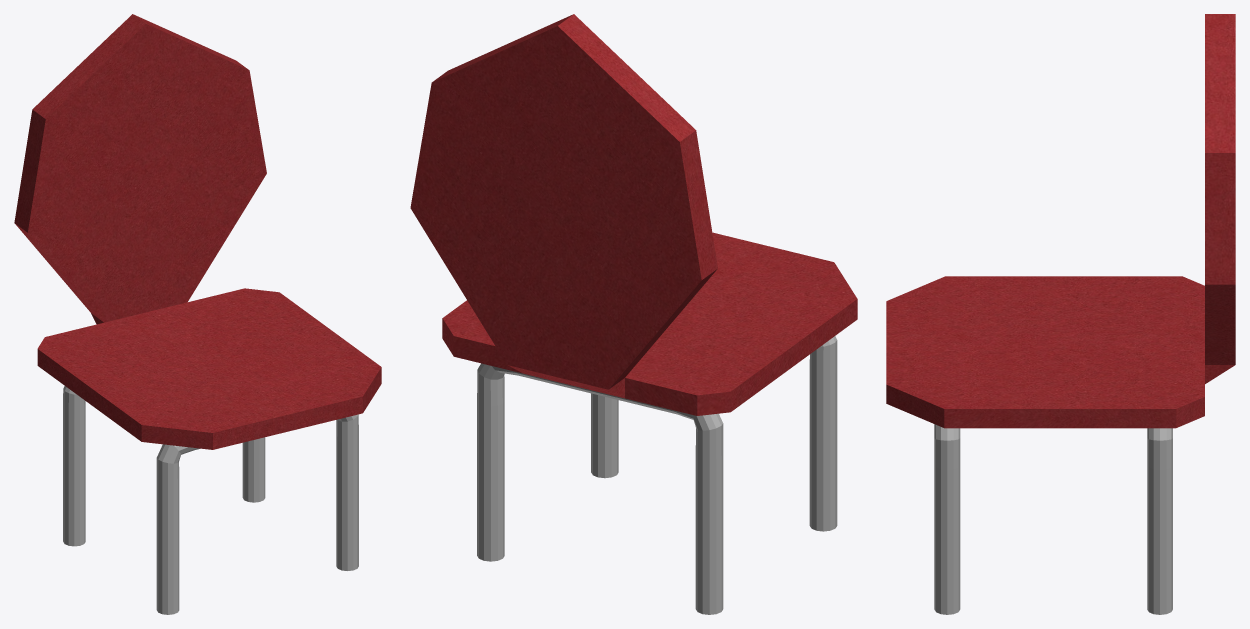
The model's file is Silla.fbx.
3 renders of one model, left to right at view 1: azimuth 30°, elevation 25°; view 2: azimuth 150°, elevation 25°; view 3: azimuth 270°, elevation 25°, orthographic. The views are drawn at different scales.
Parts seen in each view (by area): view 1: Silla, Patas_Silla; view 2: Silla, Patas_Silla; view 3: Silla, Patas_Silla.
Boxes of the visible parts, x1,y1,x2,y2 form: Silla: (14, 14, 381, 449); Patas_Silla: (63, 386, 358, 614); Silla: (410, 14, 857, 415); Patas_Silla: (477, 336, 837, 614); Silla: (886, 14, 1235, 428); Patas_Silla: (934, 424, 1172, 614).
Bounding box in the file's own units: 64.52 × 124 × 71.68.
2 materials, 1 textured.
